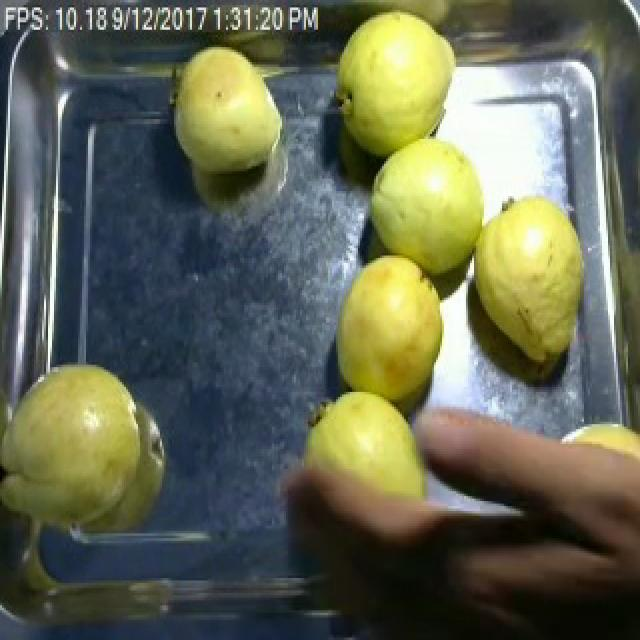Fruit: (460, 174, 608, 399), (0, 352, 160, 536), (288, 380, 450, 548), (324, 241, 460, 424), (330, 0, 472, 171), (364, 124, 502, 295), (162, 32, 292, 181)
